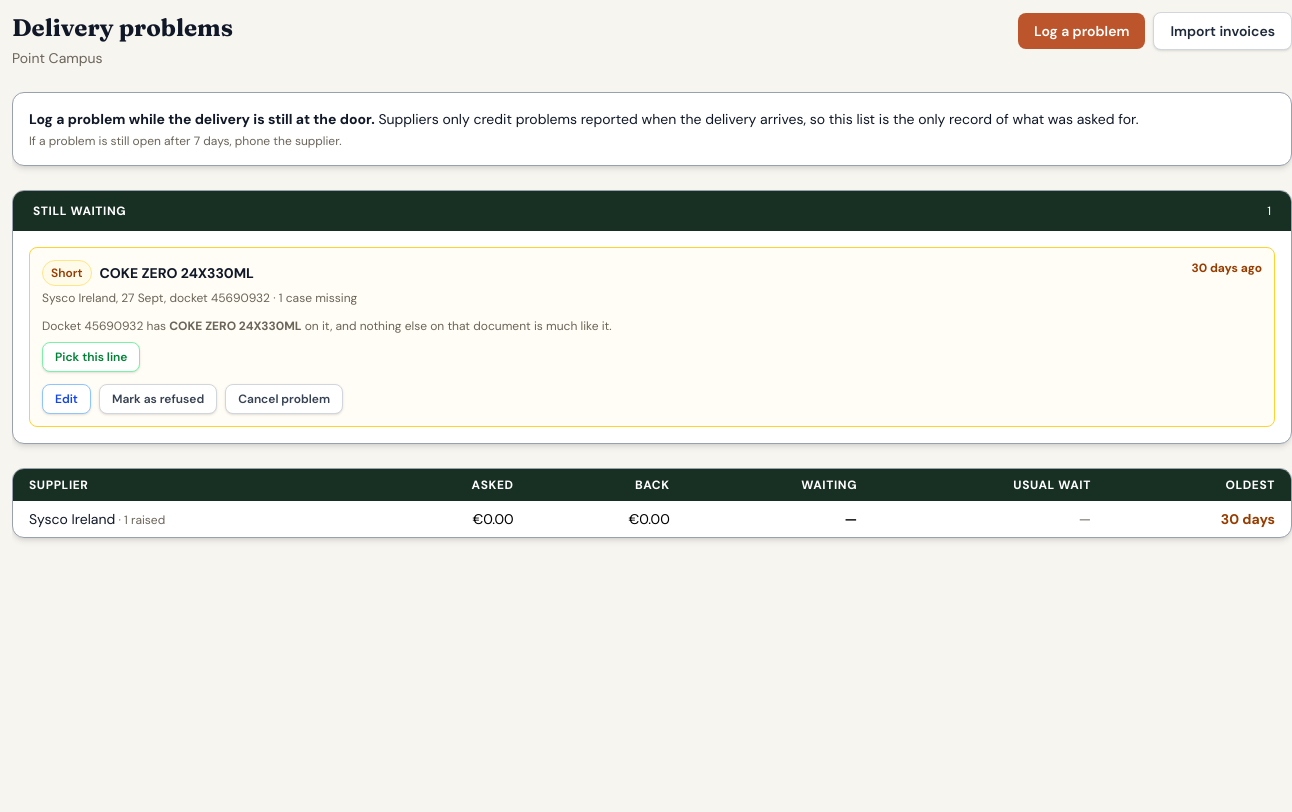
putting a note from the door against its line › says nothing changed when it moved on before the yes, not where the money goes
Click the button "Pick this line": [91, 357] box x1=42 y1=342 x2=140 y2=372
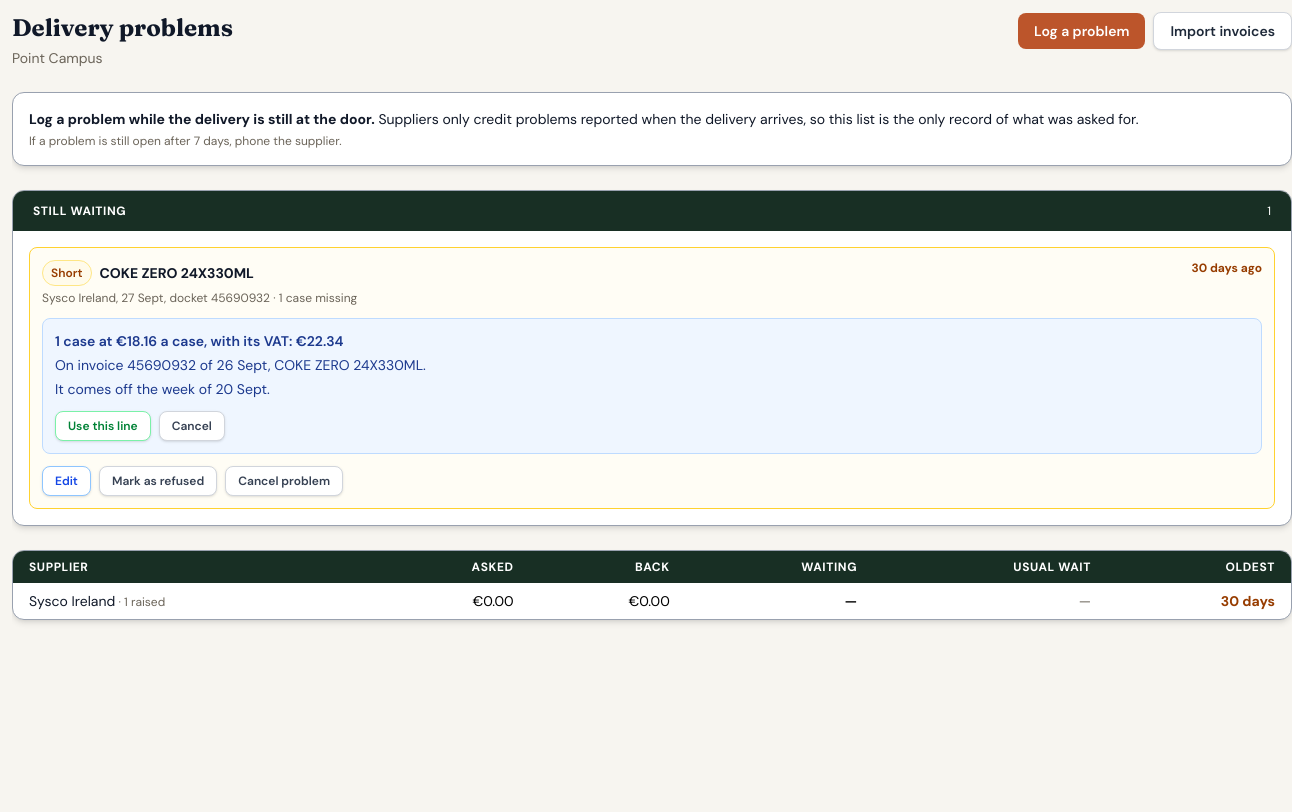
Click the button "Use this line": [103, 426] box x1=55 y1=411 x2=151 y2=441
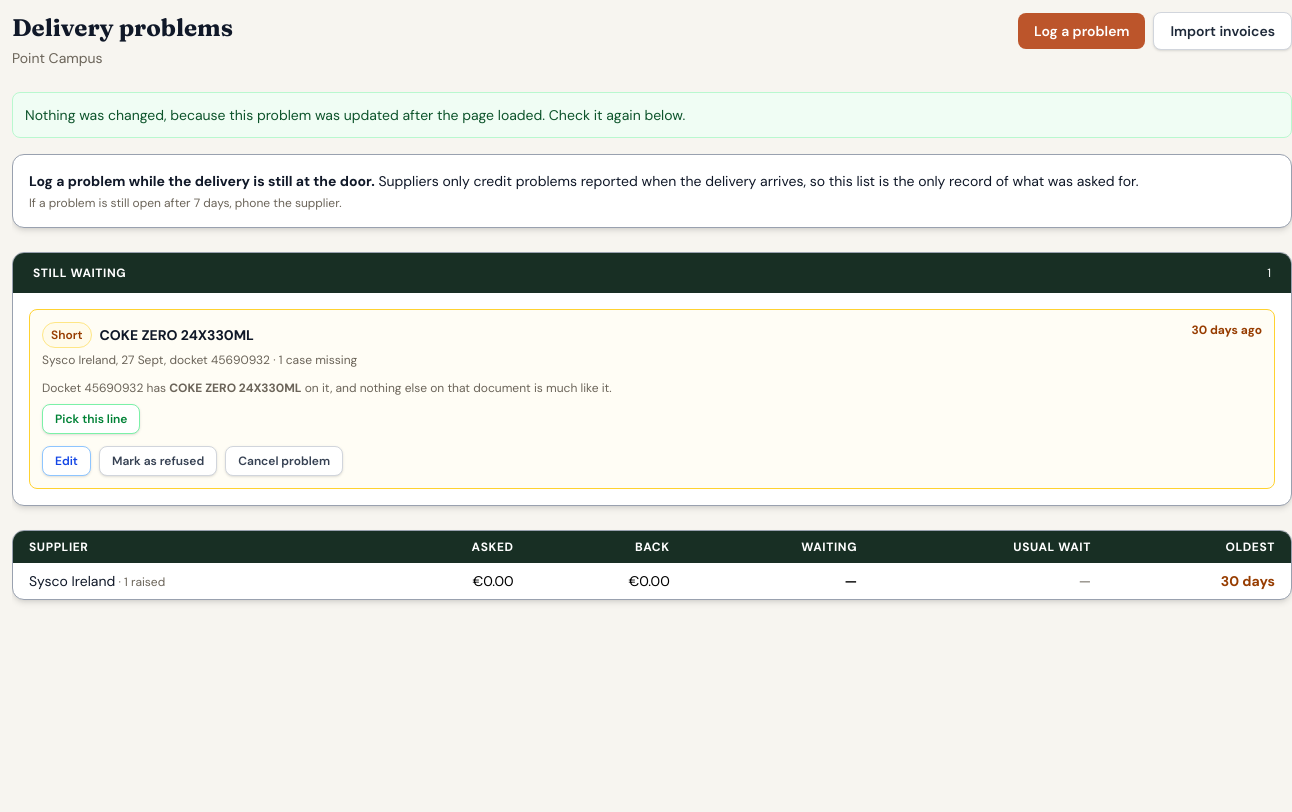
Now the text "Nothing was changed, because this problem was updated" is shown, box x1=25 y1=106 x2=685 y2=124
